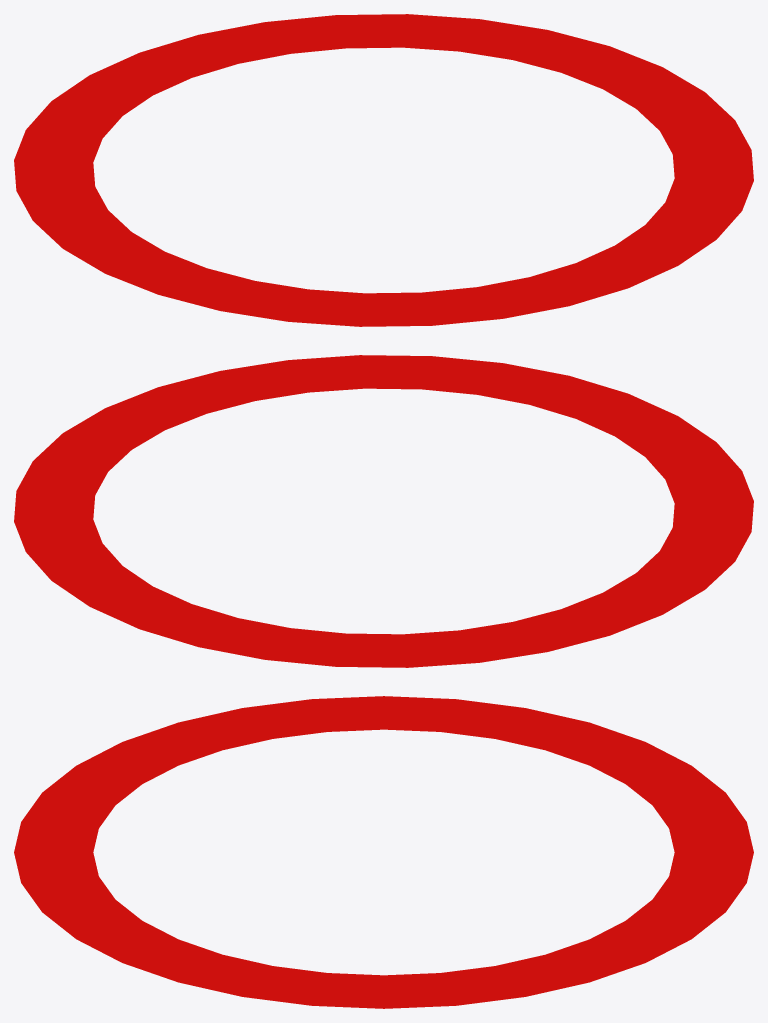
3 views of the same model, one above another, from view 1: azimuth 30°, elevation 25°; view 2: azimuth 150°, elevation 25°; view 3: azimuth 270°, elevation 25° (orthographic).
Parts seen in each view (by area): view 1: Circle; view 2: Circle; view 3: Circle.
Part boxes in pixels (x1,y1,x2,y2): Circle: [14, 14, 753, 326]; Circle: [14, 355, 753, 667]; Circle: [14, 696, 753, 1008].
Bounding box in the file's own units: 2.55 × 0 × 2.55.
